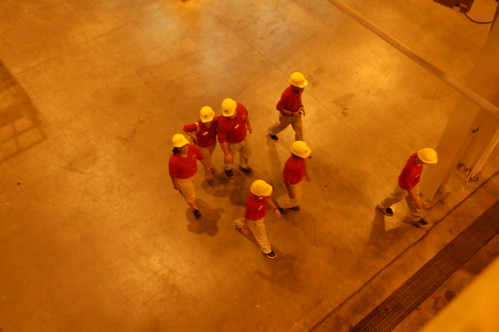person hardhat: (381, 148, 442, 232), (233, 180, 283, 266), (167, 132, 210, 224), (269, 71, 310, 156), (279, 142, 316, 225), (215, 97, 253, 176), (187, 104, 220, 183)
